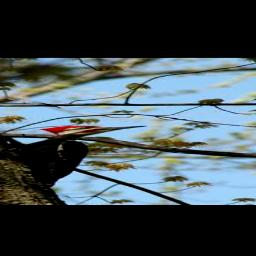Woodpecker: (3, 124, 155, 187)
